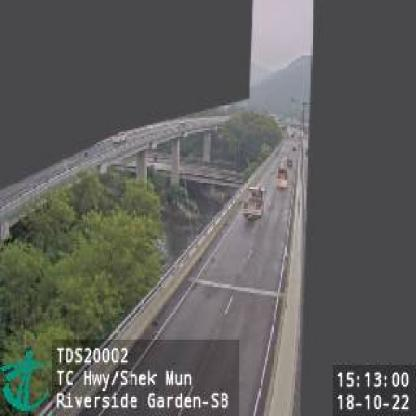Truck: (241, 184, 267, 222), (276, 166, 288, 190)
